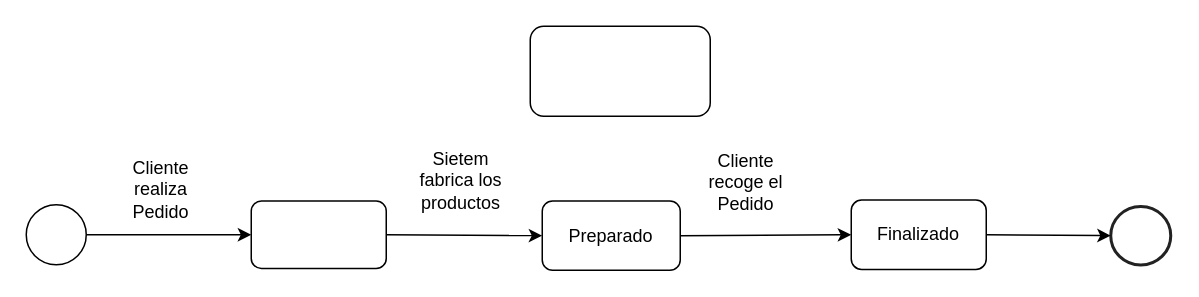
Some shapes in this 1199 by 297 pixel diagram are drawn without their labels. The centre of each missing label's shape, as x and y in pixels:
"En curso" belongs at point 318,234.
"PedidoCliente" belongs at point 619,70.
